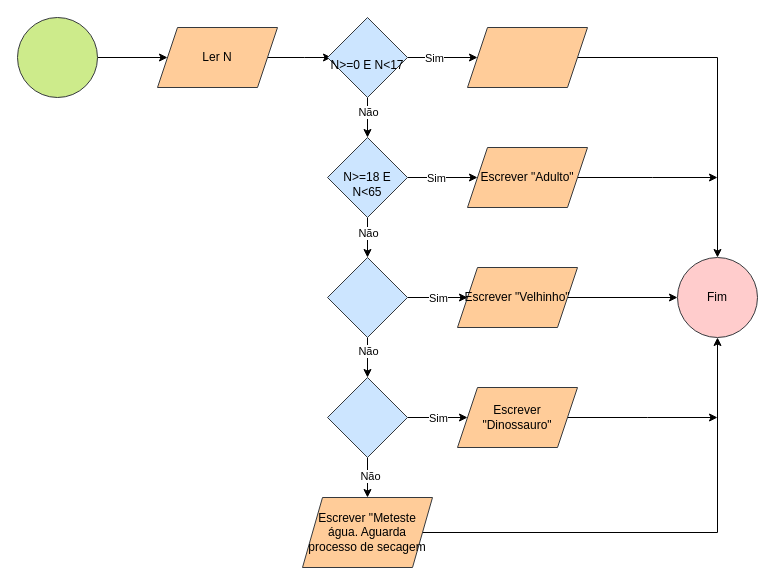
The diagram is 775 pixels wide and 585 high, and some of its shapes have lost their labels. Each missing label, with the centre of its shape:
Escrever "Puto": (x=527, y=57)
Inicio: (x=57, y=57)
N>149: (x=367, y=417)
N>=66 E N<149: (x=367, y=297)
